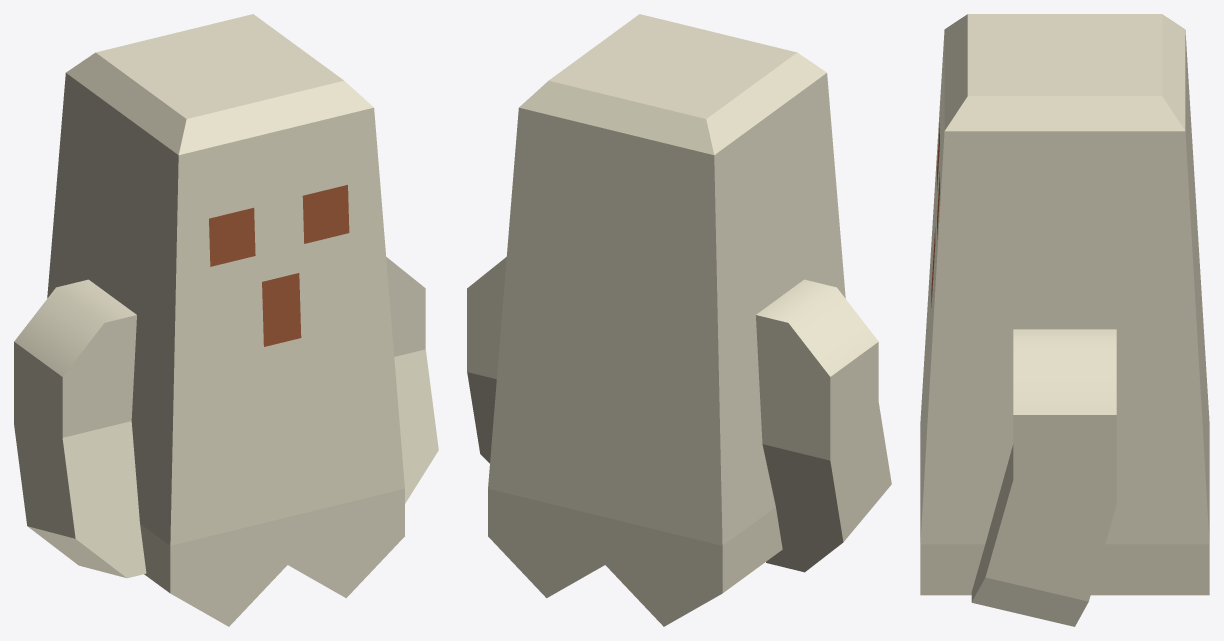
The model's file is characterGhost.fbx.
The picture shows the model from 3 angles, left to right: view 1: azimuth 30°, elevation 25°; view 2: azimuth 150°, elevation 25°; view 3: azimuth 270°, elevation 25°; orthographic projection. The views are drawn at different scales.
Parts seen in each view (by area): view 1: body, armRight, armLeft; view 2: body, armRight, armLeft; view 3: body, armLeft.
Part boxes in pixels (x1,y1,x2,y2): body: (47,14,404,626); armRight: (14,279,146,578); armLeft: (386,257,438,503); body: (488,14,845,626); armRight: (756,279,891,572); armLeft: (467,257,506,463); body: (920,14,1209,595); armLeft: (971,329,1116,626).
Bounding box in the file's own units: 4.83 × 6.31 × 3.12.
